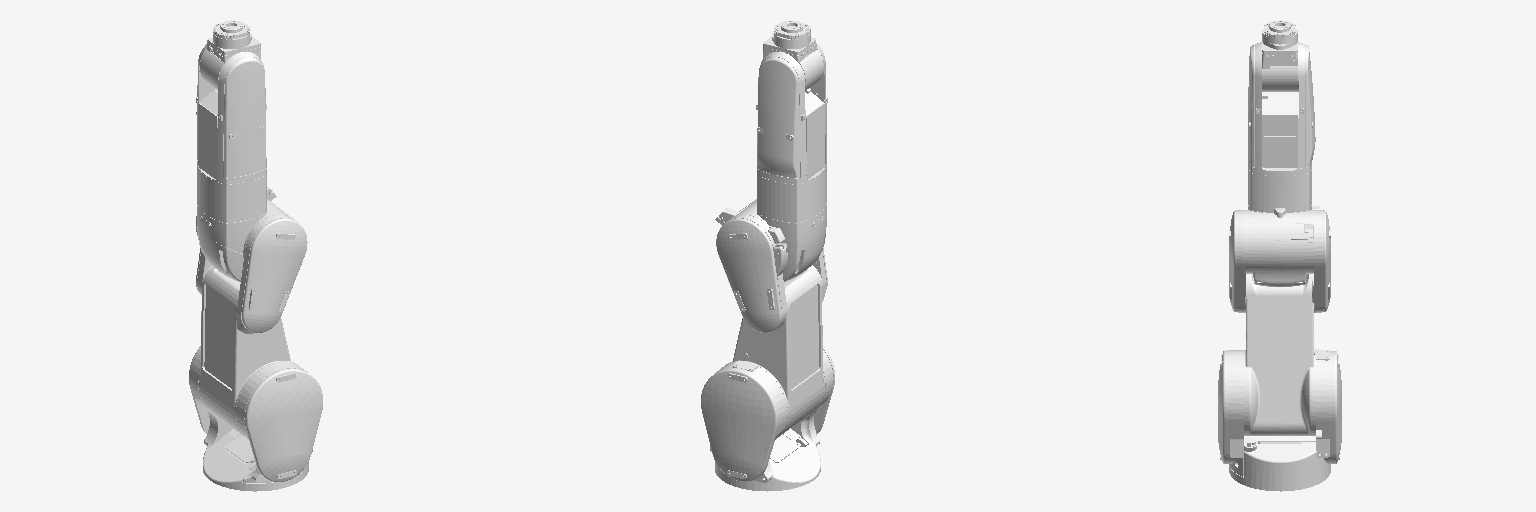
The robot description file, URDF, robot "rv4frl":
<?xml version="1.0" ?>
<robot name="rv4frl">
  <material name="white">
    <color rgba="1.0 1.0 1.0 1.0"/>
  </material>
  <link name="world"/>
  <link name="rv4frl_base">
    <visual>
      <material name="white"/>
      <origin rpy="0 0 0" xyz="0 0 0"/>
      <geometry>
        <mesh filename="package://melfa_description/meshes/rv4frl/base.STL"/>
      </geometry>
    </visual>
    <collision>
      <origin rpy="0 0 0" xyz="0 0 0"/>
      <geometry>
        <mesh filename="package://melfa_description/meshes/rv4frl/base.STL"/>
      </geometry>
    </collision>
  </link>
  <link name="rv4frl_shoulder">
    <visual>
      <material name="white"/>
      <origin rpy="0 0 0" xyz="0 0 0"/>
      <geometry>
        <mesh filename="package://melfa_description/meshes/rv4frl/shoulder.STL"/>
      </geometry>
    </visual>
    <collision>
      <origin rpy="0 0 0" xyz="0 0 0"/>
      <geometry>
        <mesh filename="package://melfa_description/meshes/rv4frl/shoulder.STL"/>
      </geometry>
    </collision>
  </link>
  <link name="rv4frl_upper_arm">
    <visual>
      <material name="white"/>
      <origin rpy="0 0 0" xyz="0 0 0"/>
      <geometry>
        <mesh filename="package://melfa_description/meshes/rv4frl/upper_arm.STL"/>
      </geometry>
    </visual>
    <collision>
      <origin rpy="0 0 0" xyz="0 0 0"/>
      <geometry>
        <mesh filename="package://melfa_description/meshes/rv4frl/upper_arm.STL"/>
      </geometry>
    </collision>
  </link>
  <link name="rv4frl_elbow">
    <visual>
      <material name="white"/>
      <origin rpy="0 0 0" xyz="0 0 0"/>
      <geometry>
        <mesh filename="package://melfa_description/meshes/rv4frl/elbow.STL"/>
      </geometry>
    </visual>
    <collision>
      <origin rpy="0 0 0" xyz="0 0 0"/>
      <geometry>
        <mesh filename="package://melfa_description/meshes/rv4frl/elbow.STL"/>
      </geometry>
    </collision>
  </link>
  <link name="rv4frl_forearm">
    <visual>
      <material name="white"/>
      <origin rpy="0 0 0" xyz="0 0 0"/>
      <geometry>
        <mesh filename="package://melfa_description/meshes/rv4frl/forearm.STL"/>
      </geometry>
    </visual>
    <collision>
      <origin rpy="0 0 0" xyz="0 0 0"/>
      <geometry>
        <mesh filename="package://melfa_description/meshes/rv4frl/forearm.STL"/>
      </geometry>
    </collision>
  </link>
  <link name="rv4frl_wrist">
    <visual>
      <material name="white"/>
      <origin rpy="0 0 0" xyz="0 0 0"/>
      <geometry>
        <mesh filename="package://melfa_description/meshes/rv4frl/wrist.STL"/>
      </geometry>
    </visual>
    <collision>
      <origin rpy="0 0 0" xyz="0 0 0"/>
      <geometry>
        <mesh filename="package://melfa_description/meshes/rv4frl/wrist.STL"/>
      </geometry>
    </collision>
  </link>
  <link name="rv4frl_hand_flange">
    <visual>
      <material name="white"/>
      <origin rpy="0 0 0" xyz="0 0 0"/>
      <geometry>
        <mesh filename="package://melfa_description/meshes/rv4frl/hand_flange.STL"/>
      </geometry>
    </visual>
    <collision>
      <origin rpy="0 0 0" xyz="0 0 0"/>
      <geometry>
        <mesh filename="package://melfa_description/meshes/rv4frl/hand_flange.STL"/>
      </geometry>
    </collision>
  </link>
  <link name="rv4frl_default_tcp"/>
  <joint name="rv4frl_world_to_base" type="fixed">
    <origin rpy="0 0 0" xyz="0.0 0.0 0.0"/>
    <parent link="world"/>
    <child link="rv4frl_base"/>
  </joint>
  <joint name="rv4frl_joint_1" type="revolute">
    <origin rpy="0 0 0" xyz="0.0 0.0 0.0"/>
    <parent link="rv4frl_base"/>
    <child link="rv4frl_shoulder"/>
    <axis xyz="0 0 1"/>
    <limit effort="1" lower="-4.1887902047863905" upper="4.1887902047863905" velocity="7.3303828583761845"/>
  </joint>
  <joint name="rv4frl_joint_2" type="revolute">
    <origin rpy="0 0 0" xyz="0.0 0.0 0.35"/>
    <parent link="rv4frl_shoulder"/>
    <child link="rv4frl_upper_arm"/>
    <axis xyz="0 1 0"/>
    <limit effort="1" lower="-2.0943951023931953" upper="2.0943951023931953" velocity="5.8643062867009474"/>
  </joint>
  <joint name="rv4frl_joint_3" type="revolute">
    <origin rpy="0 0 0" xyz="0.0 0.0 0.31"/>
    <parent link="rv4frl_upper_arm"/>
    <child link="rv4frl_elbow"/>
    <axis xyz="0 1 0"/>
    <limit effort="1" lower="0.0" upper="2.8623399732707" velocity="4.363323129985823"/>
  </joint>
  <joint name="rv4frl_joint_4" type="revolute">
    <origin rpy="0 0 0" xyz="-0.05 0.0 0.0"/>
    <parent link="rv4frl_elbow"/>
    <child link="rv4frl_forearm"/>
    <axis xyz="0 0 1"/>
    <limit effort="1" lower="-3.490658503988659" upper="3.490658503988659" velocity="9.42477796076938"/>
  </joint>
  <joint name="rv4frl_joint_5" type="revolute">
    <origin rpy="0 0 0" xyz="0.0 0.0 0.335"/>
    <parent link="rv4frl_forearm"/>
    <child link="rv4frl_wrist"/>
    <axis xyz="0 1 0"/>
    <limit effort="1" lower="-2.0943951023931953" upper="2.0943951023931953" velocity="10.873401239924673"/>
  </joint>
  <joint name="rv4frl_joint_6" type="revolute">
    <origin rpy="0 0 0" xyz="0.0 0.0 0.085"/>
    <parent link="rv4frl_wrist"/>
    <child link="rv4frl_hand_flange"/>
    <axis xyz="0 0 1"/>
    <limit effort="1" lower="-6.283185307179586" upper="6.283185307179586" velocity="12.566370614359172"/>
  </joint>
  <joint name="rv4frl_hand_tcp" type="fixed">
    <origin rpy="0 0 0" xyz="0.0 0.0 0.0"/>
    <parent link="rv4frl_hand_flange"/>
    <child link="rv4frl_default_tcp"/>
  </joint>
</robot>

--- What the picture shows (computed from the rendered views, not written in the file) ---
Views: 3 orthographic renders of the robot side by side, from view 1: azimuth 30°, elevation 25°; view 2: azimuth 150°, elevation 25°; view 3: azimuth 270°, elevation 25°.
Robot: rv4frl — 9 links, 8 joints (6 revolute, 2 fixed); root link world; default pose: all joints at 0.
Links seen in each view (by area): view 1: rv4frl_upper_arm, rv4frl_shoulder, rv4frl_forearm, rv4frl_elbow, rv4frl_wrist; view 2: rv4frl_upper_arm, rv4frl_shoulder, rv4frl_forearm, rv4frl_elbow, rv4frl_wrist; view 3: rv4frl_upper_arm, rv4frl_shoulder, rv4frl_forearm, rv4frl_elbow, rv4frl_wrist.
Boxes of the visible links, x1,y1,x2,y2 form: rv4frl_upper_arm: [196, 215, 307, 436]; rv4frl_shoulder: [189, 346, 322, 491]; rv4frl_forearm: [196, 44, 266, 222]; rv4frl_elbow: [197, 187, 291, 281]; rv4frl_wrist: [200, 21, 260, 89]; rv4frl_upper_arm: [716, 215, 827, 436]; rv4frl_shoulder: [701, 346, 834, 491]; rv4frl_forearm: [756, 43, 827, 222]; rv4frl_elbow: [715, 199, 826, 281]; rv4frl_wrist: [763, 21, 823, 90]; rv4frl_upper_arm: [1229, 210, 1330, 435]; rv4frl_shoulder: [1218, 349, 1341, 491]; rv4frl_forearm: [1248, 42, 1315, 215]; rv4frl_elbow: [1246, 205, 1320, 286]; rv4frl_wrist: [1262, 21, 1297, 91].
Bounding box of the posed robot: 0.1999 × 0.23 × 0.8865 m (x, y, z).
Meshes: 7 distinct files referenced, 6 mesh visuals loaded (6 binary STL); not drawn: 1 (reference not matched to a file when rendering).